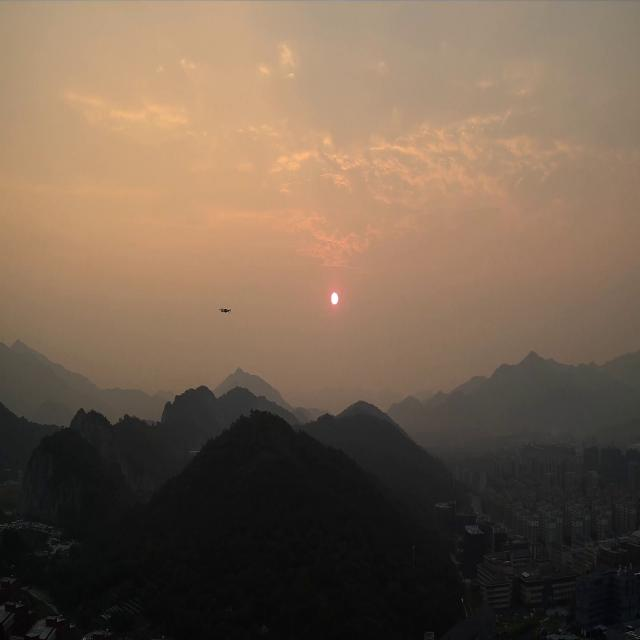UAV: (218, 306, 232, 314)
